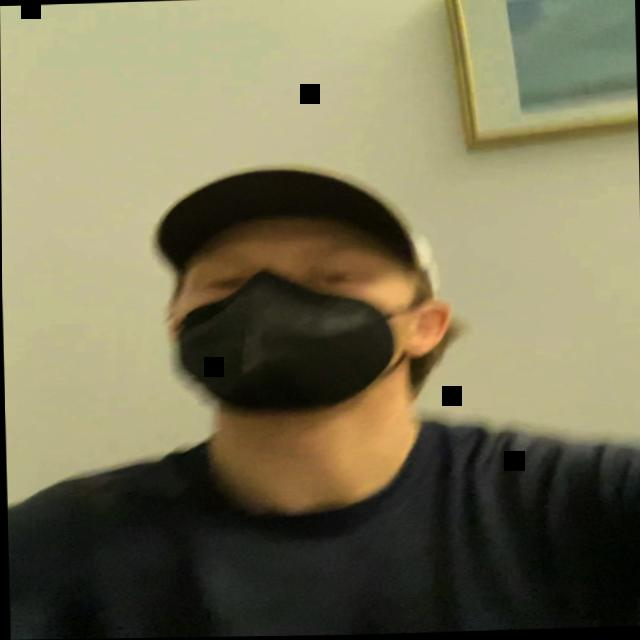Mask: (167, 209, 406, 416)
